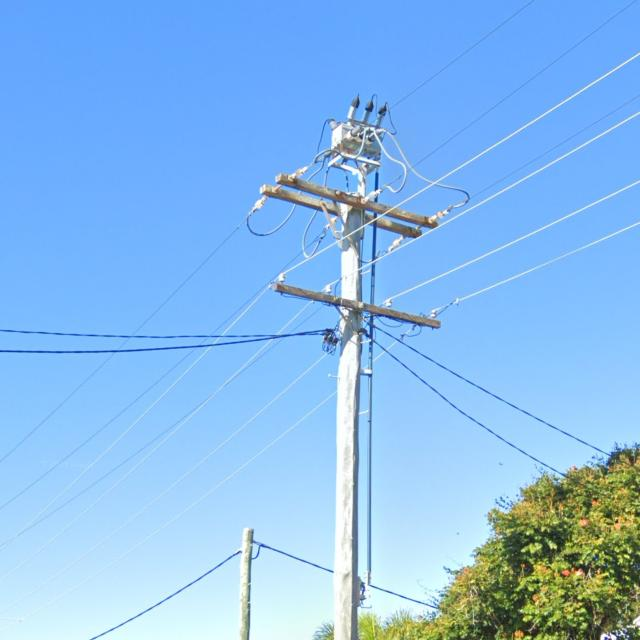HV-switch: (329, 96, 390, 175)
HV-transmission: (251, 165, 452, 252)
crossarm: (275, 172, 438, 230), (260, 183, 422, 239), (272, 282, 441, 331)
timber-pole: (332, 195, 364, 639), (239, 526, 255, 640)
